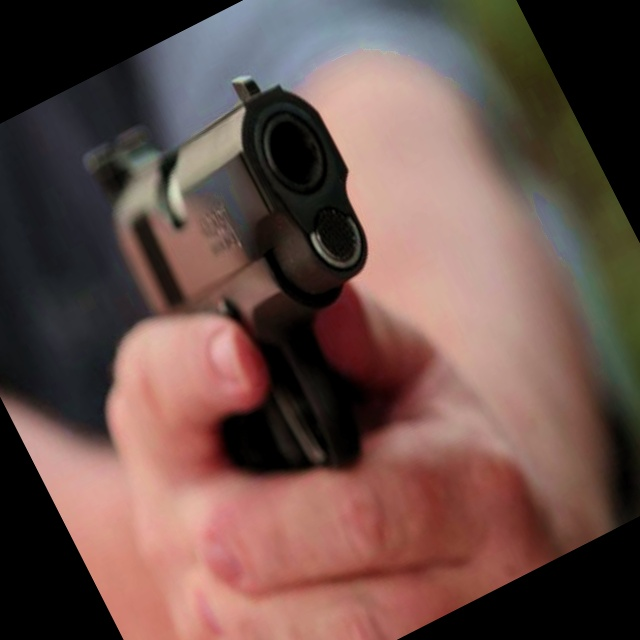gun: (47, 23, 496, 541)
